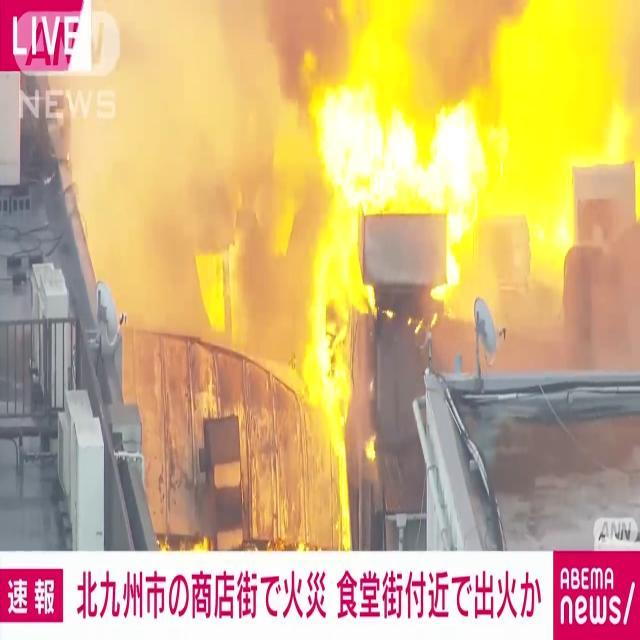Fire: (272, 0, 638, 306), (290, 214, 364, 463)
